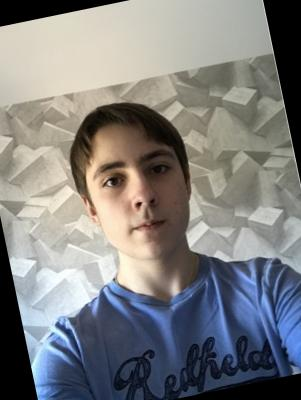without_mask: (86, 144, 203, 271)
